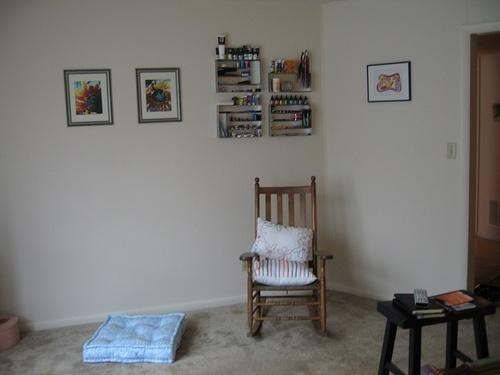chair: (243, 174, 339, 339)
